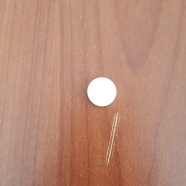Yuvarlak Buskopan: (85, 75, 118, 107)
